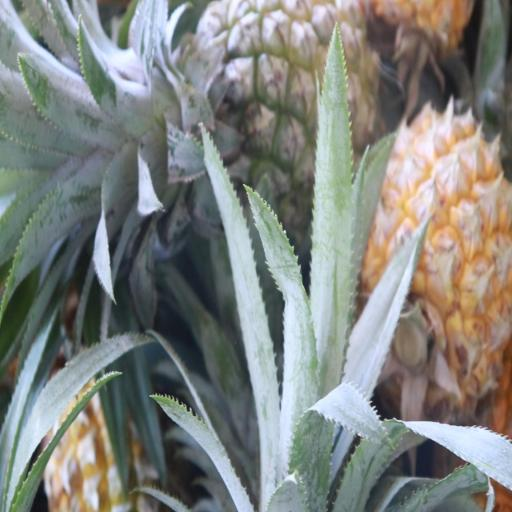Pineapple - v8 v1: (359, 116, 512, 394)
